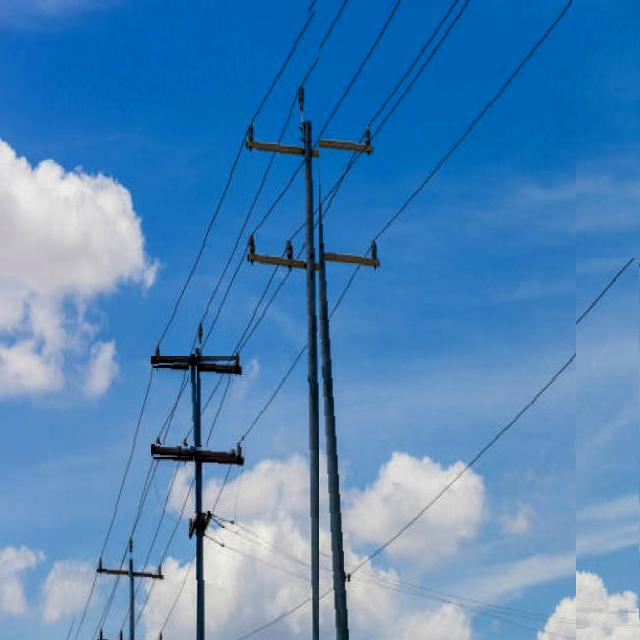crossarm: (244, 226, 366, 264), (245, 114, 366, 151), (151, 445, 236, 457), (151, 356, 236, 363)
pole: (302, 110, 311, 639), (191, 354, 197, 537)
wire: (172, 2, 576, 640), (227, 258, 639, 639), (72, 9, 319, 640)
